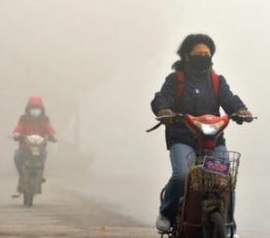person: (145, 30, 257, 238), (6, 93, 62, 210)
